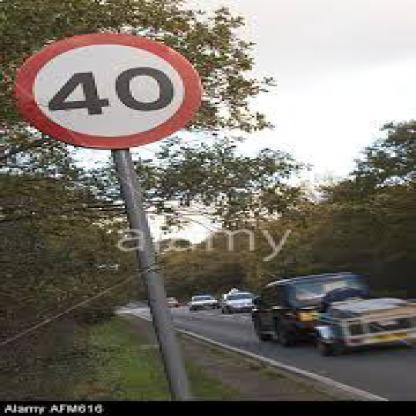Speed Limit 40: (20, 35, 200, 145)
